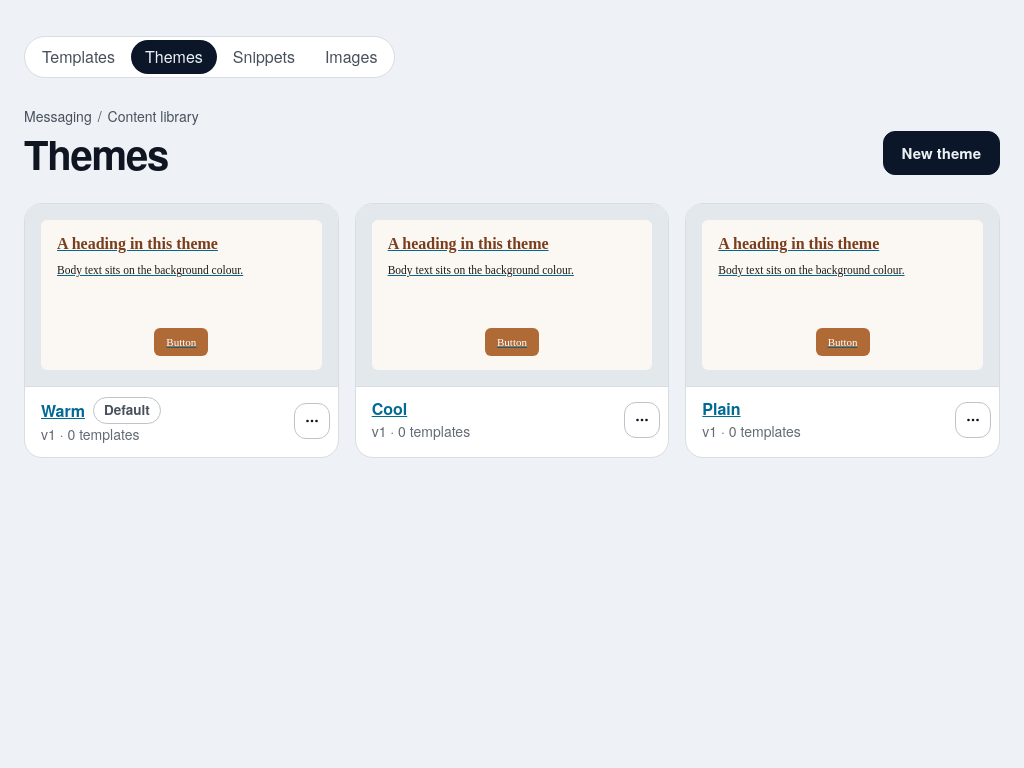
Test case: the set-default confirm › offers a retry when the read fails, and says there is no default only when there is none
Click the button named "More actions for Cool": (642, 420) [624,402,660,438]
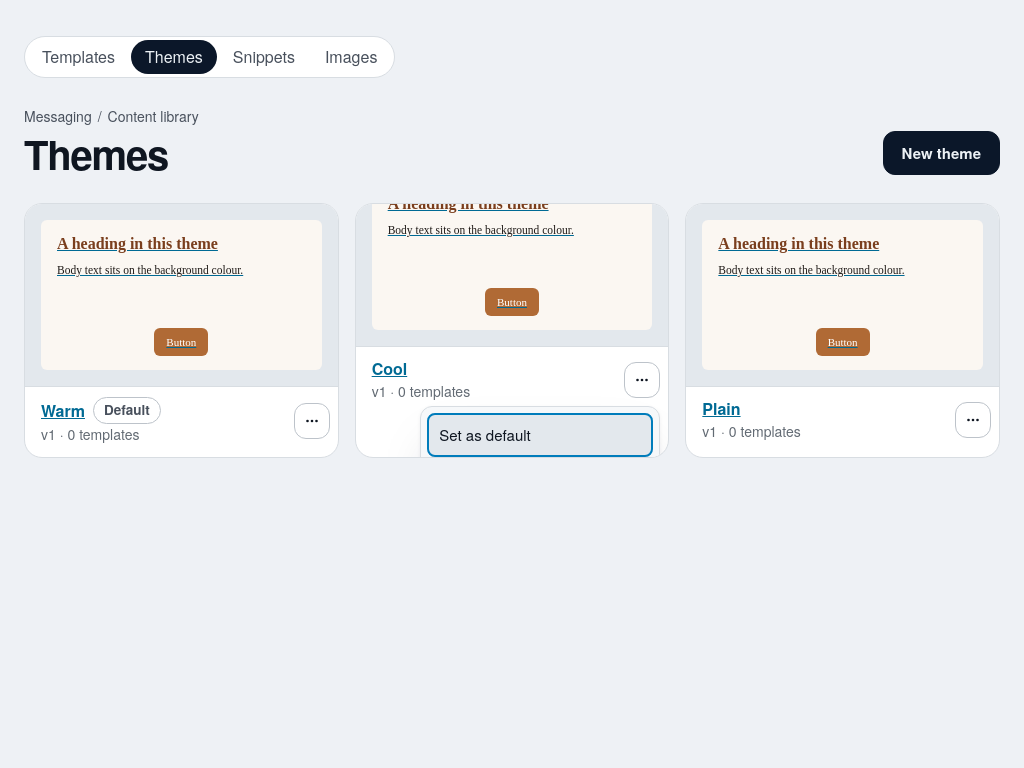
Click the menu item "Set as default": (540, 435) [427,413,653,457]
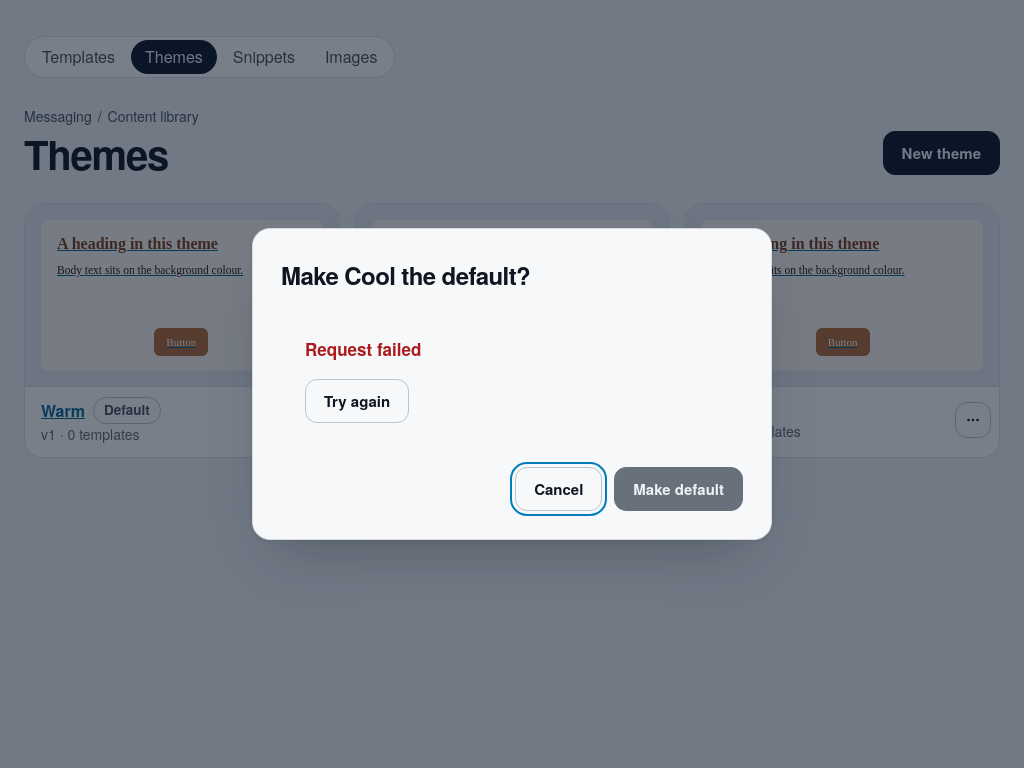
Click the button "Try again": (357, 401) [305,379,409,423]
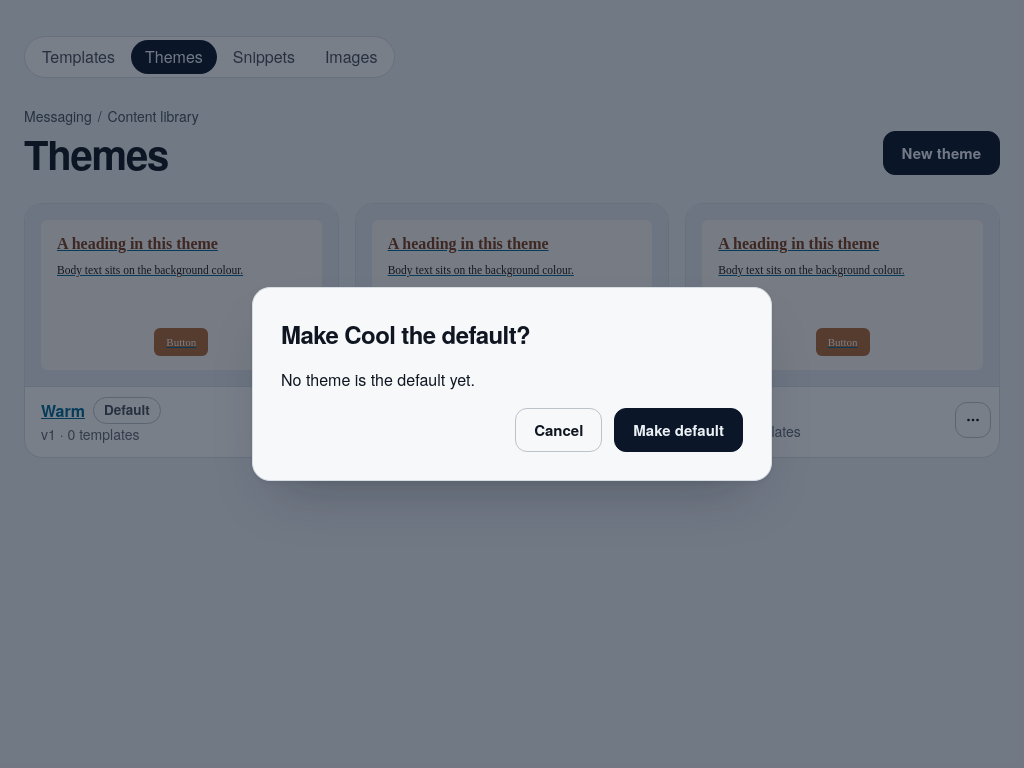
Check: the text "No theme is the default yet." is shown, box [281,368,475,391]
